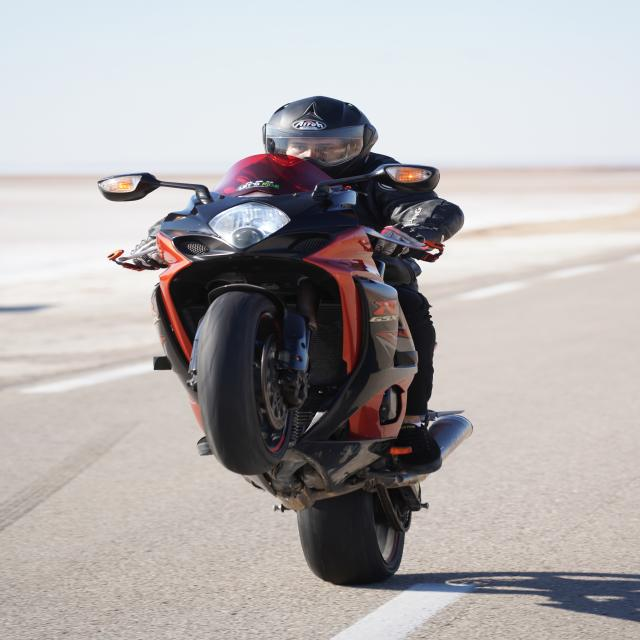Wheeling: (172, 89, 479, 539)
